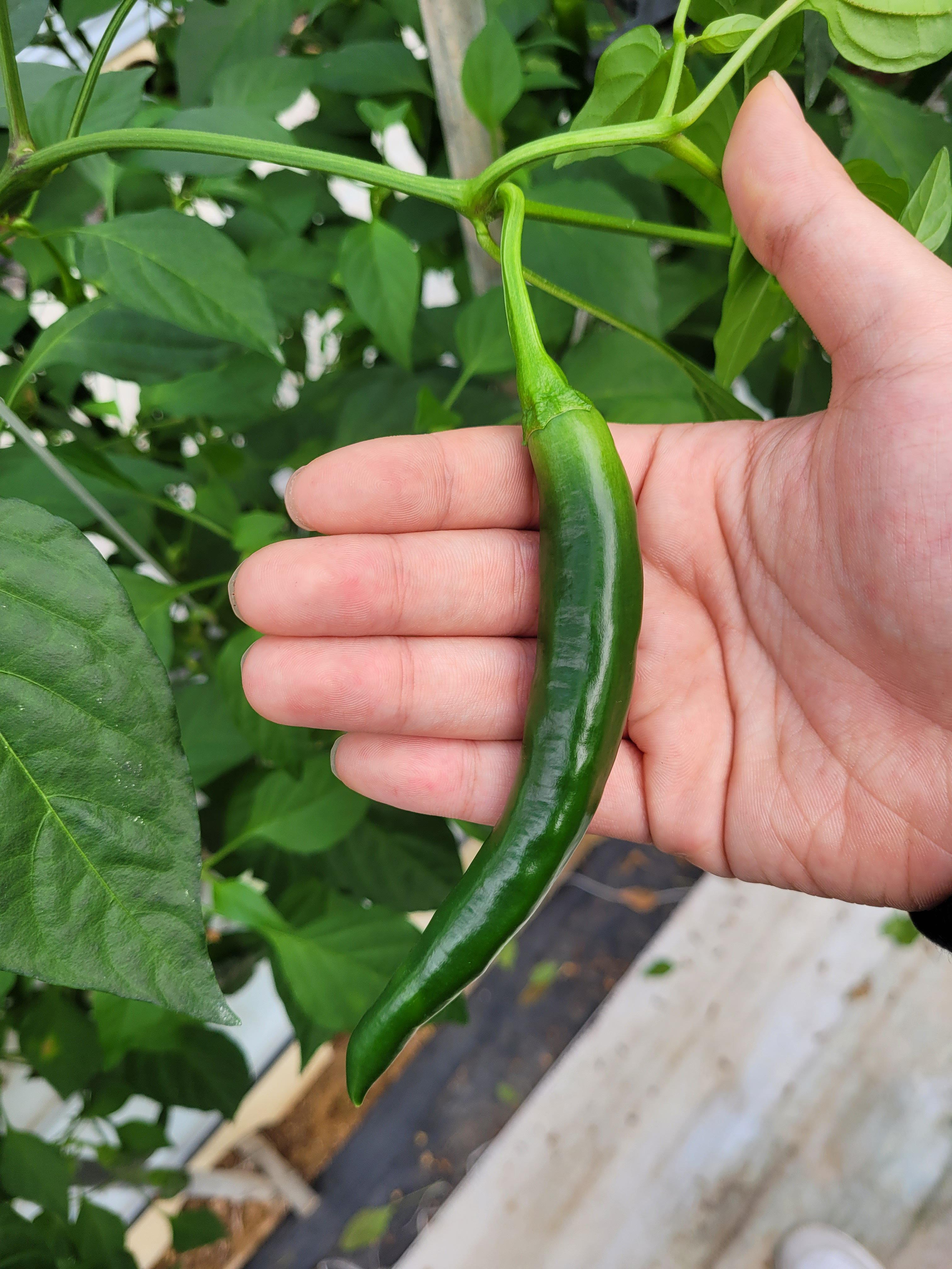Buah Cabai Sehat: (339, 381, 646, 1108)
